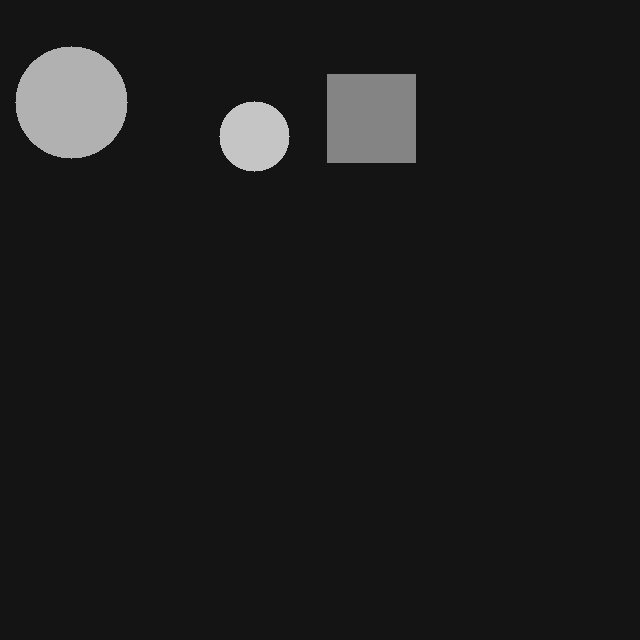circle: (15, 46, 127, 158), (219, 101, 289, 171)
square: (327, 74, 415, 162)
